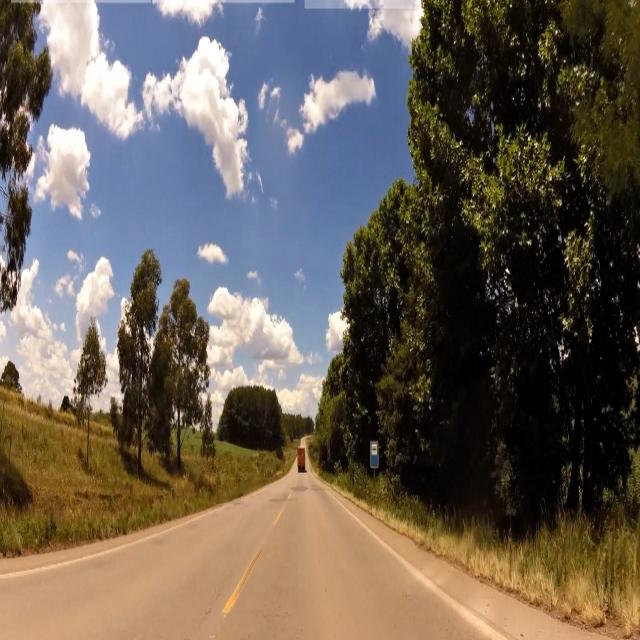S-14: (369, 437, 380, 471)
